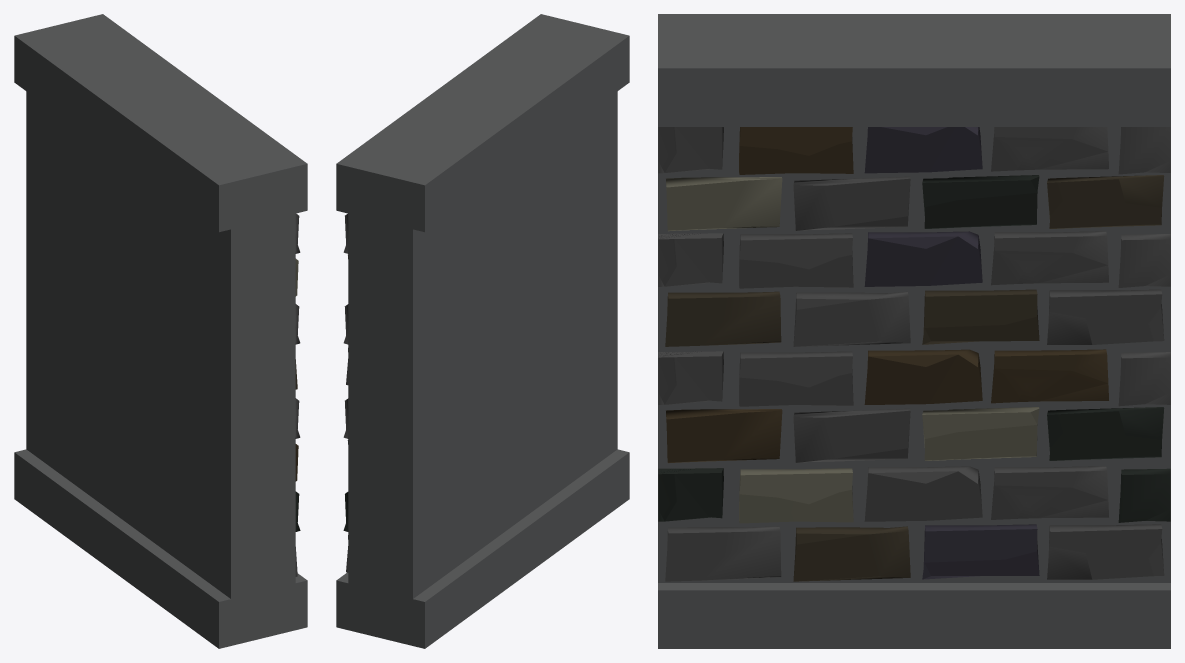
Rendered from Wall1.fbx.
The picture shows the model from 3 angles, left to right: view 1: azimuth 30°, elevation 25°; view 2: azimuth 150°, elevation 25°; view 3: azimuth 270°, elevation 25°; orthographic projection. The views are drawn at different scales.
Visible parts, largest first — view 1: Wall1; view 2: Wall1; view 3: Wall1.
Part boxes in pixels (box(x1,y1,x2,y2)): Wall1: box(14, 14, 307, 648); Wall1: box(336, 14, 629, 648); Wall1: box(658, 14, 1170, 648).
Bounding box in the file's own units: 100 × 500 × 400.
